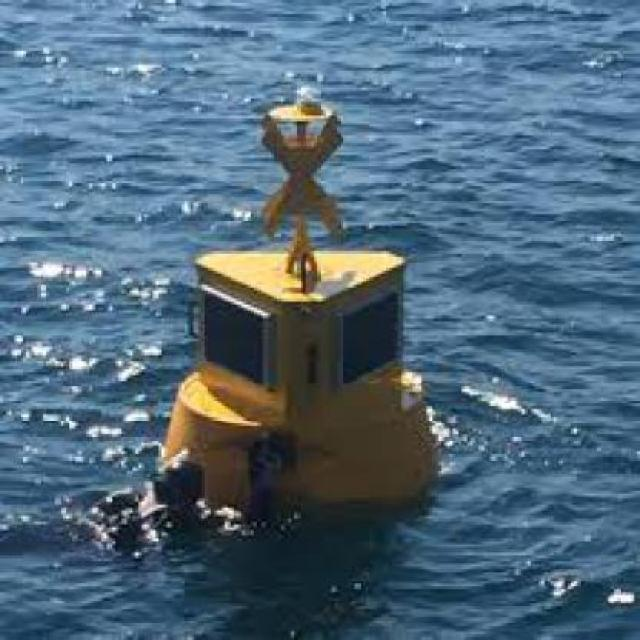buoy: (125, 75, 451, 526)
